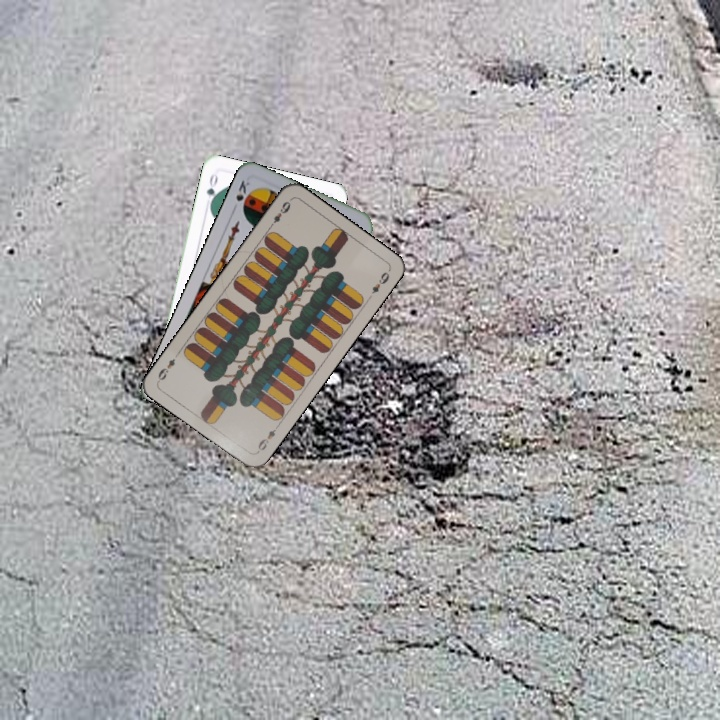E9: (253, 420, 282, 455), (265, 197, 293, 231)
GO: (202, 170, 220, 210)
SK: (232, 176, 252, 204)
